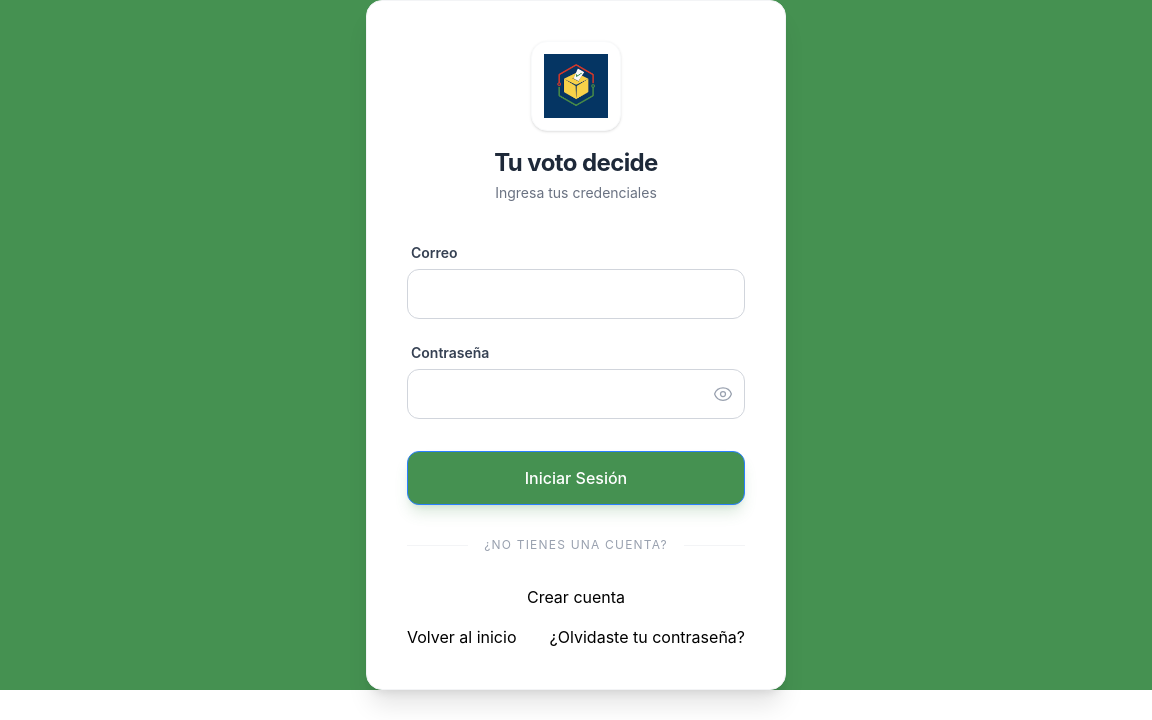
MX-03 | Autenticación, sesiones, roles y permisos | Frontend Admin | Login resultados › AUT-UI-P1-001 / AUT-HTTP-P0-001 | muestra error visible de sesión ante respuesta no autorizada
Type "admin@test.com" into the field with test id "login-email" at (576, 294), box [407, 269, 745, 319]
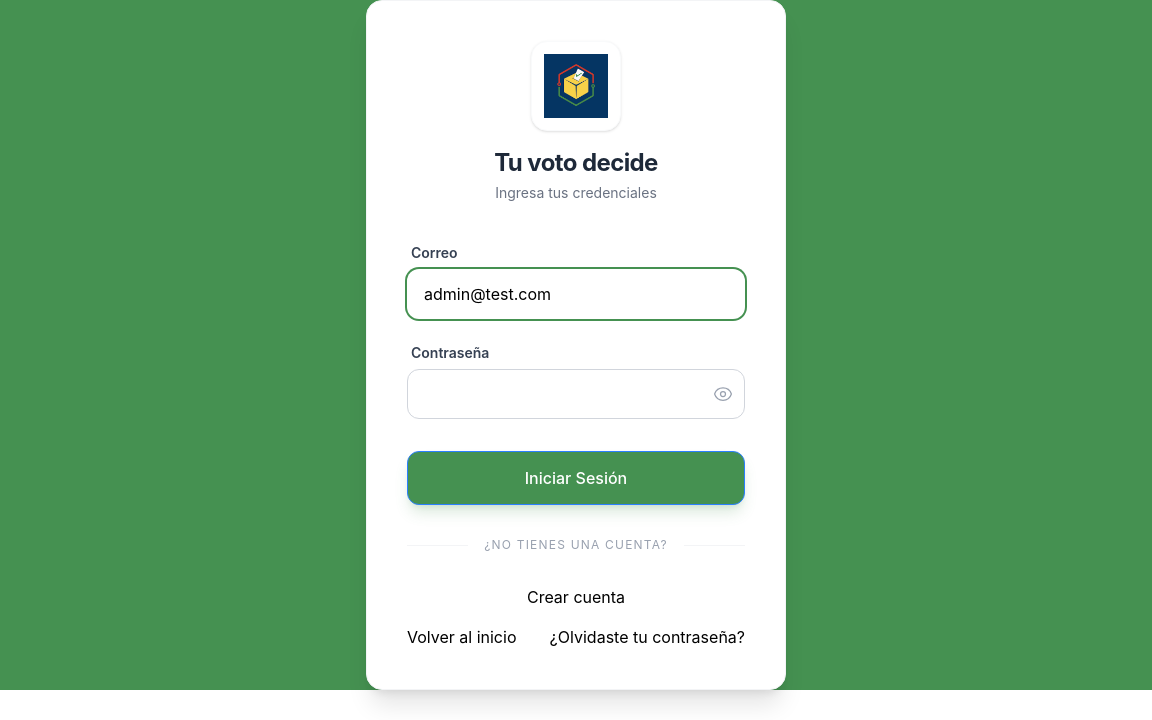
Type "12345678" into the password field with test id "login-password" at (576, 394), box [407, 369, 745, 419]
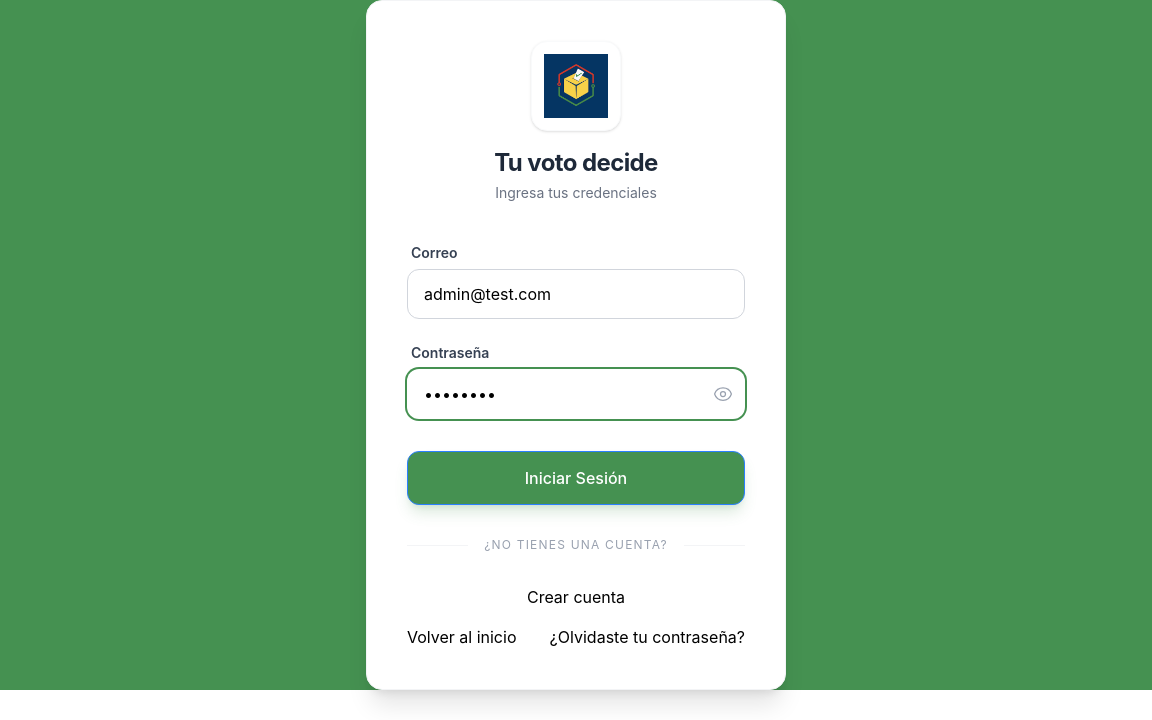
Click the button with test id "login-submit" at (576, 478), box [407, 451, 745, 505]
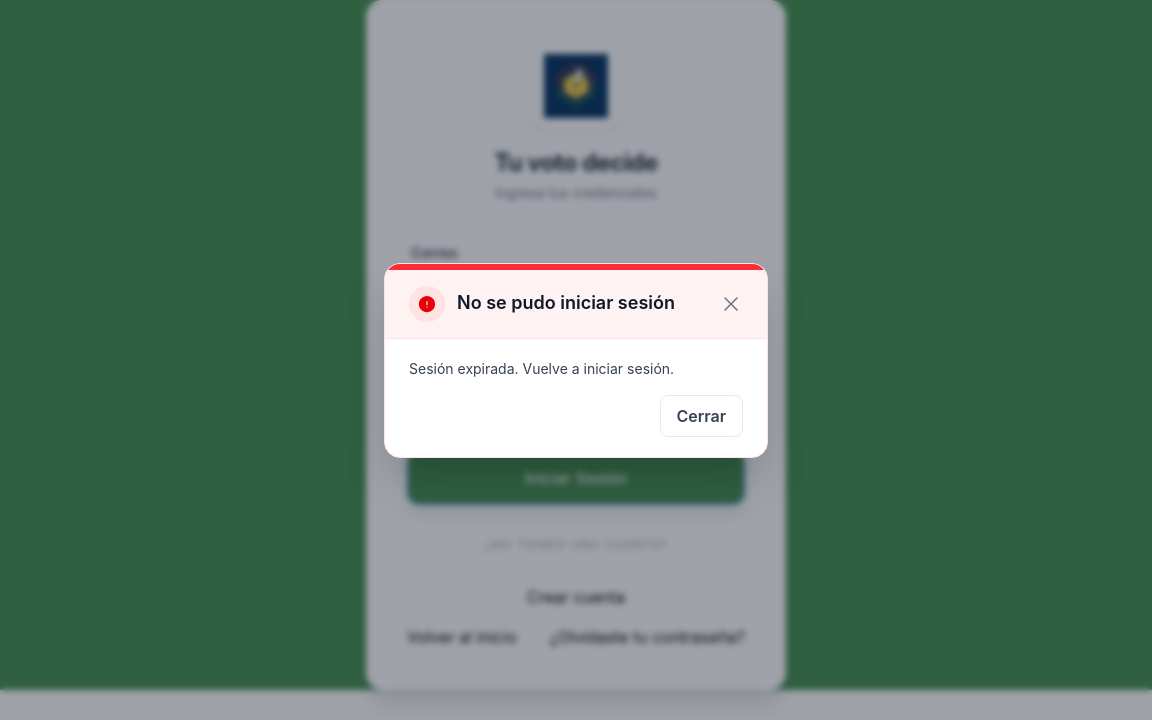
expect the heading "No se pudo iniciar sesión" is shown: met, box [457, 292, 675, 315]
expect the text "Sesión expirada. Vuelve a iniciar sesión." is shown: met, box [409, 360, 674, 376]
